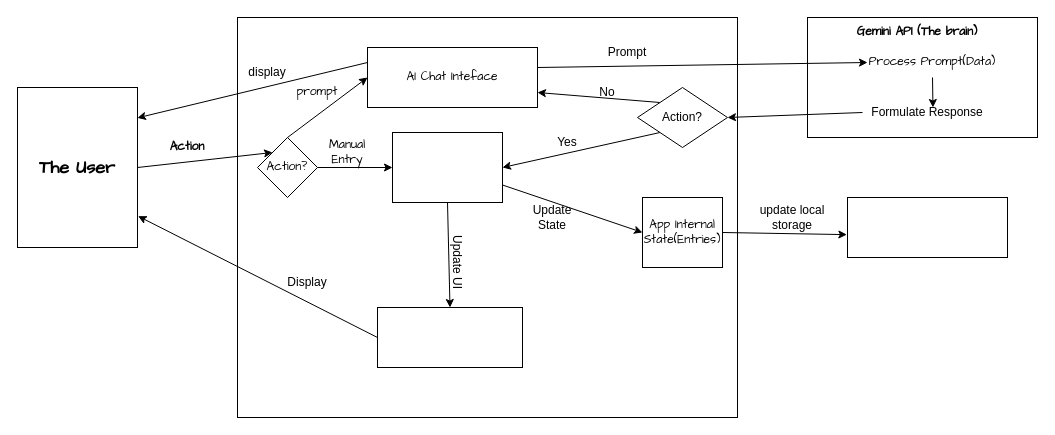
Some shapes in this 1055 by 435 pixel diagram are drawn without their labels. Each missing label, with the centre of its shape:
Local Storage (API): [927,227]
Operations(Create, Read, Update, Delete): [447,167]
User Interface (UI): [449,337]
